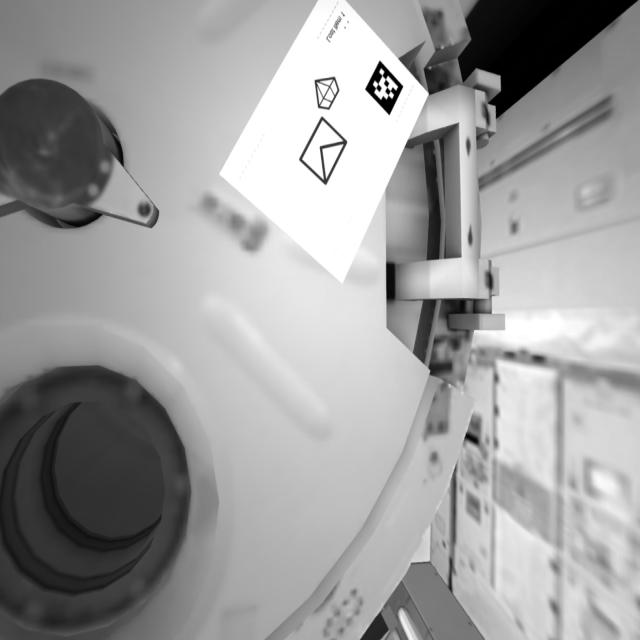diamond: (311, 69, 345, 115)
letter: (293, 110, 356, 198)
